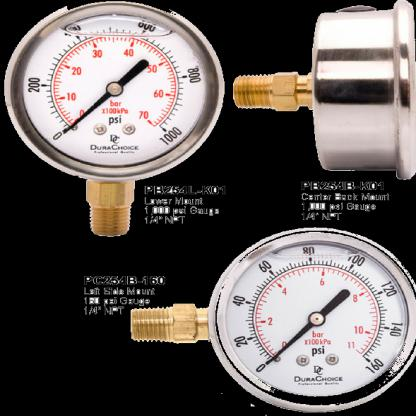needle: (62, 91, 112, 136), (264, 322, 315, 366)
